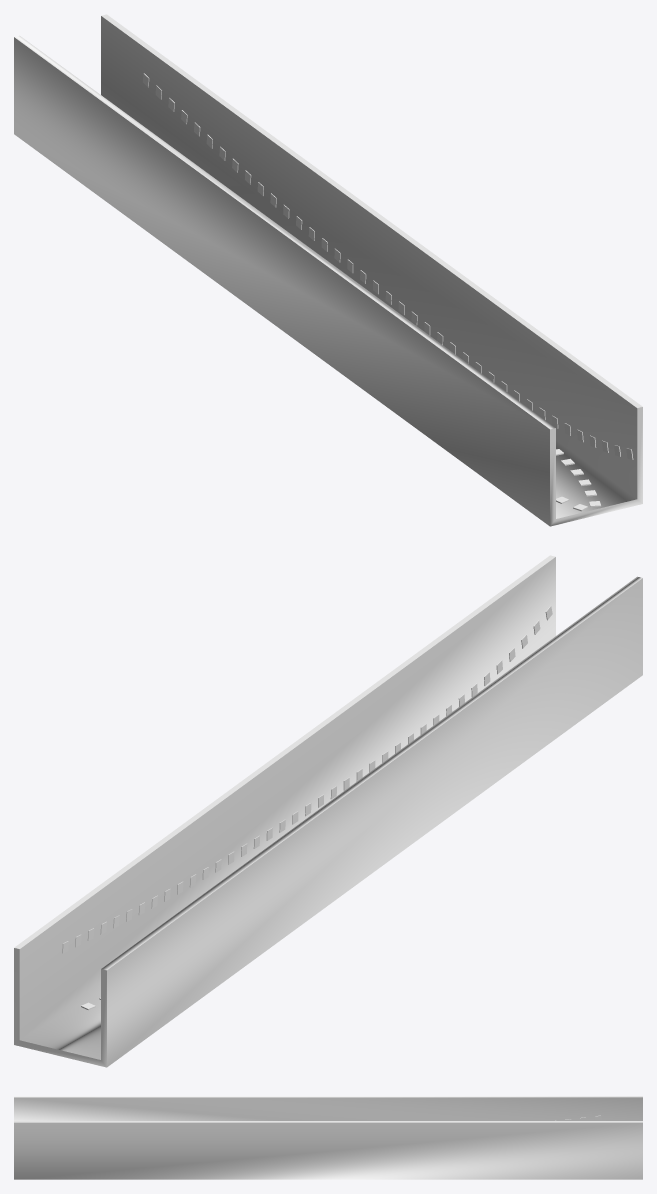
The model's file is Demohole2.obj.
3 views of the same model, one above another, from view 1: azimuth 30°, elevation 25°; view 2: azimuth 150°, elevation 25°; view 3: azimuth 270°, elevation 25° (orthographic). The views are drawn at different scales.
Visible parts, largest first — view 1: 立方体; view 2: 立方体; view 3: 立方体.
Boxes of the visible parts, bbox=[...] form: 立方体: bbox=[14, 14, 642, 526]; 立方体: bbox=[14, 555, 642, 1067]; 立方体: bbox=[14, 1096, 642, 1179].
Size of the model in its own units: 20 by 20 by 200.
Materials: 1 (1 with a texture image).
